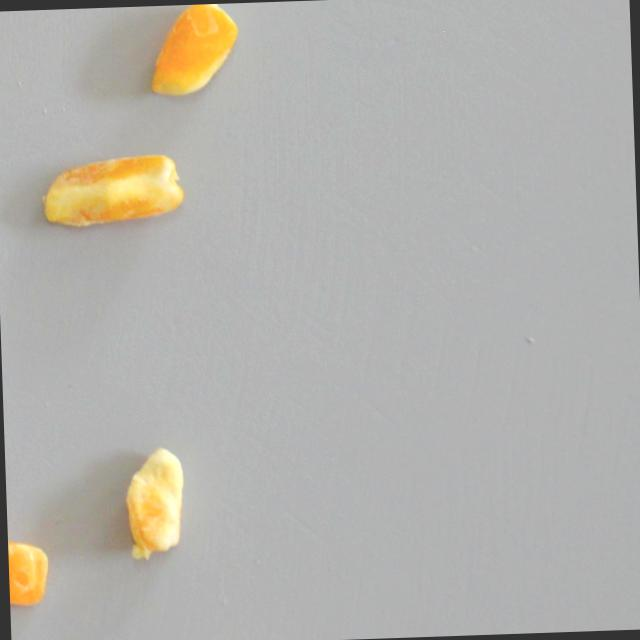pelicula: (93, 432, 204, 565), (36, 149, 186, 229), (140, 2, 250, 111), (6, 505, 69, 637)
